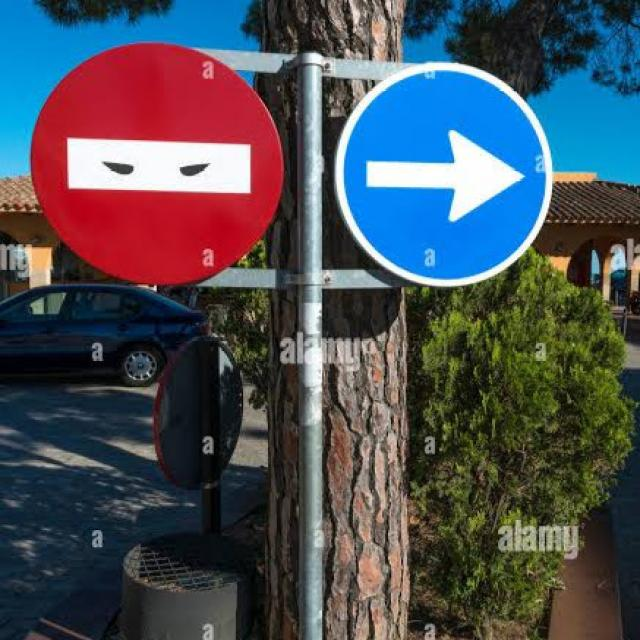Turn Right: (327, 57, 561, 285)
